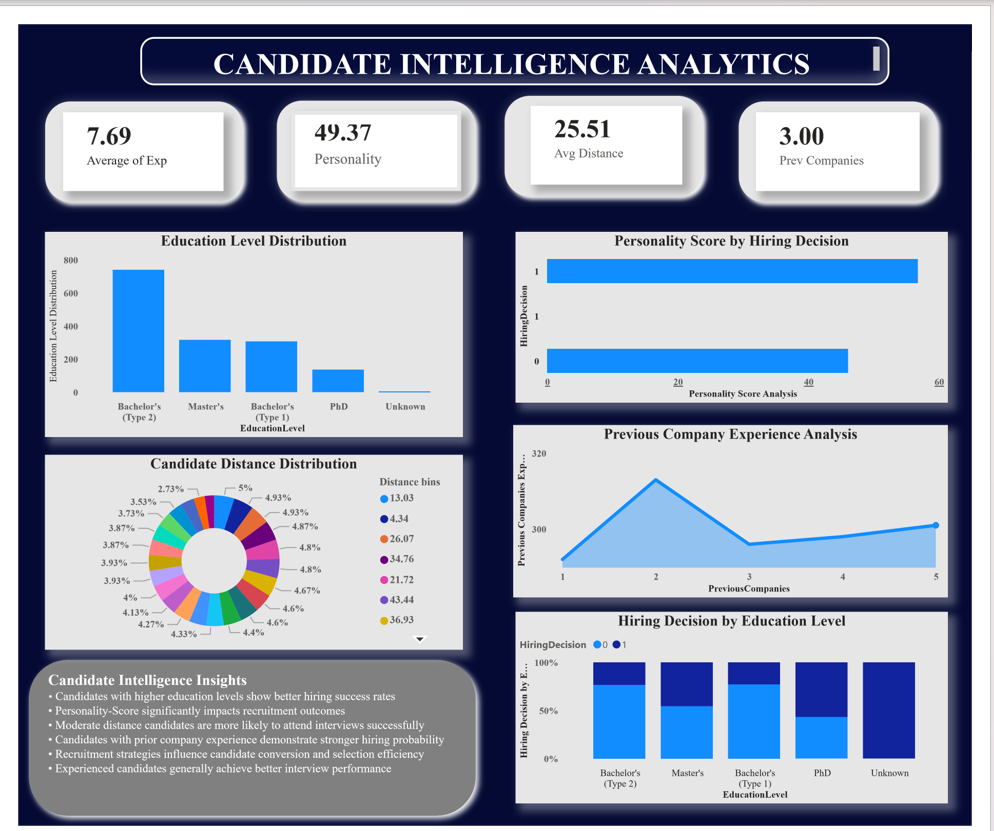

This screenshot's page, from the dashboard's own definition file:
{"tool":"powerbi","page":{"name":"Candidate Intelligence","canvas":[1189,1000],"ordinal":1},"visuals":[{"type":"shape","box":[308.7,82,273.9,152.2],"z":0},{"type":"shape","box":[593.5,76.1,273.9,152.2],"z":1000},{"type":"shape","box":[884.8,82.6,273.9,152.2],"z":2000},{"type":"shape","box":[19.6,82.6,273.9,152.2],"z":3000},{"type":"shape","box":[0,780,582.5,220],"z":4000},{"type":"textbox","box":[152,16,934,60],"z":5000},{"type":"cardVisual","fields":{"Data":["Avg(cleaned_recruitment_data.ExperienceYears)"]},"box":[56,110,200,98],"z":6000},{"type":"cardVisual","fields":{"Data":["Avg(cleaned_recruitment_data.PersonalityScore)"]},"box":[340,108,212,100],"z":7000},{"type":"cardVisual","fields":{"Data":["Avg(cleaned_recruitment_data.DistanceFromCompany)"]},"box":[639.1,102.2,189.1,97.8],"z":8000},{"type":"cardVisual","fields":{"Data":["Avg(cleaned_recruitment_data.PreviousCompanies)"]},"box":[920,110,204,98],"z":9000},{"type":"clusteredColumnChart","title":"Education Level Distribution","fields":{"Category":["cleaned_recruitment_data.EducationLevel"],"Y":["CountNonNull(cleaned_recruitment_data.Age)"]},"box":[32.6,258.7,521.7,256.5],"z":10000},{"type":"clusteredBarChart","title":"Personality Score by Hiring Decision","fields":{"Category":["cleaned_recruitment_data.HiringDecision"],"Y":["Avg(cleaned_recruitment_data.PersonalityScore)"]},"box":[619.6,258.7,539.1,213],"z":11000},{"type":"donutChart","title":"Candidate Distance Distribution","fields":{"Category":["cleaned_recruitment_data.DistanceFromCompany (bins)"],"Y":["CountNonNull(cleaned_recruitment_data.Age)"]},"box":[32.6,537,521.7,243.5],"z":12000},{"type":"lineChart","title":"Previous Company Experience Analysis","fields":{"Category":["cleaned_recruitment_data.PreviousCompanies"],"Y":["CountNonNull(cleaned_recruitment_data.Age)"]},"box":[617.4,500,541.3,215.2],"z":13000},{"type":"hundredPercentStackedColumnChart","title":"Hiring Decision by Education Level","fields":{"Y":["CountNonNull(cleaned_recruitment_data.Age)"],"Series":["cleaned_recruitment_data.HiringDecision"],"Category":["cleaned_recruitment_data.EducationLevel"]},"box":[619.6,732.6,539.1,239.1],"z":14000},{"type":"textbox","box":[32,802,510,170],"z":15000}]}

Visuals, with their boxes in screenshot pixels (x1, y1, x2, y2), scaled from the page's 1189x1000 canvas onto the 994x831 screenshot:
shape: (x1=258, y1=68, x2=487, y2=195)
shape: (x1=496, y1=63, x2=725, y2=190)
shape: (x1=740, y1=69, x2=969, y2=195)
shape: (x1=16, y1=69, x2=245, y2=195)
shape: (x1=0, y1=648, x2=487, y2=830)
textbox: (x1=127, y1=13, x2=908, y2=63)
cardVisual - Avg(cleaned_recruitment_data.ExperienceYears): (x1=47, y1=91, x2=214, y2=173)
cardVisual - Avg(cleaned_recruitment_data.PersonalityScore): (x1=284, y1=90, x2=461, y2=173)
cardVisual - Avg(cleaned_recruitment_data.DistanceFromCompany): (x1=534, y1=85, x2=692, y2=166)
cardVisual - Avg(cleaned_recruitment_data.PreviousCompanies): (x1=769, y1=91, x2=940, y2=173)
"Education Level Distribution" clusteredColumnChart: (x1=27, y1=215, x2=463, y2=428)
"Personality Score by Hiring Decision" clusteredBarChart: (x1=518, y1=215, x2=969, y2=392)
"Candidate Distance Distribution" donutChart: (x1=27, y1=446, x2=463, y2=649)
"Previous Company Experience Analysis" lineChart: (x1=516, y1=416, x2=969, y2=594)
"Hiring Decision by Education Level" hundredPercentStackedColumnChart: (x1=518, y1=609, x2=969, y2=807)
textbox: (x1=27, y1=666, x2=453, y2=808)
